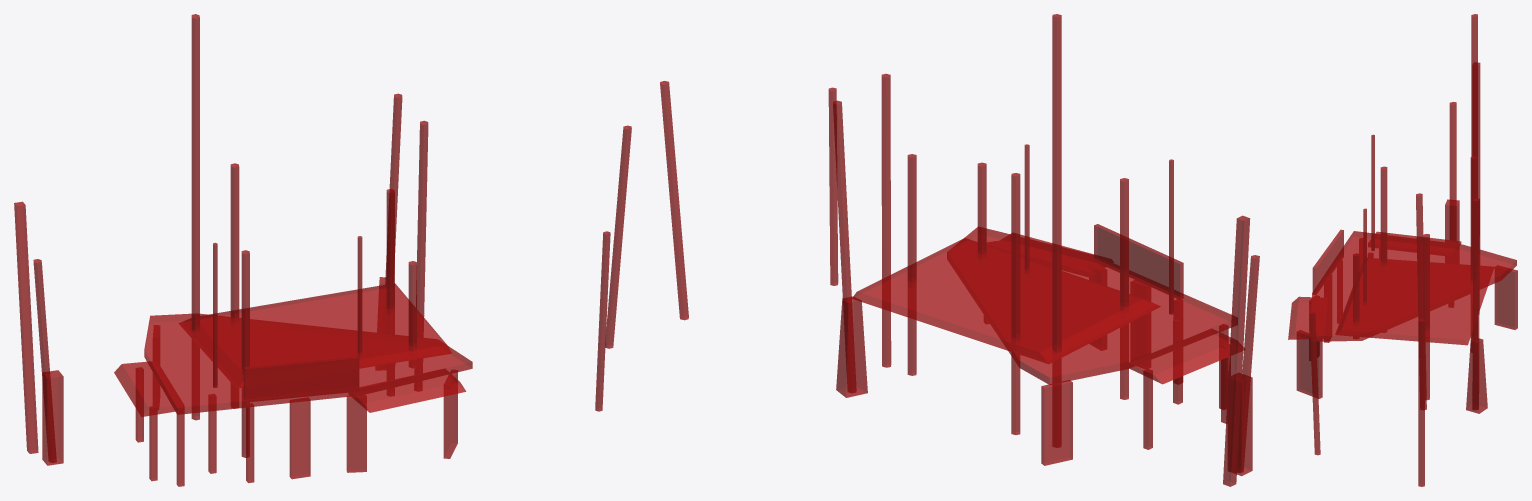
The model's file is SM_Bld_Camp_Tent_01_Collision.fbx.
The picture shows the model from 3 angles, left to right: view 1: azimuth 30°, elevation 25°; view 2: azimuth 150°, elevation 25°; view 3: azimuth 270°, elevation 25°; orthographic projection. The views are drawn at different scales.
Parts seen in each view (by area): view 1: SM_Bld_Camp_Tent_01_Collision; view 2: SM_Bld_Camp_Tent_01_Collision; view 3: SM_Bld_Camp_Tent_01_Collision.
Boxes of the visible parts, x1,y1,x2,y2 form: SM_Bld_Camp_Tent_01_Collision: [14, 14, 631, 486]; SM_Bld_Camp_Tent_01_Collision: [660, 14, 1259, 486]; SM_Bld_Camp_Tent_01_Collision: [1288, 14, 1517, 486].
Bounding box in the file's own units: 2103 × 1389 × 894.
